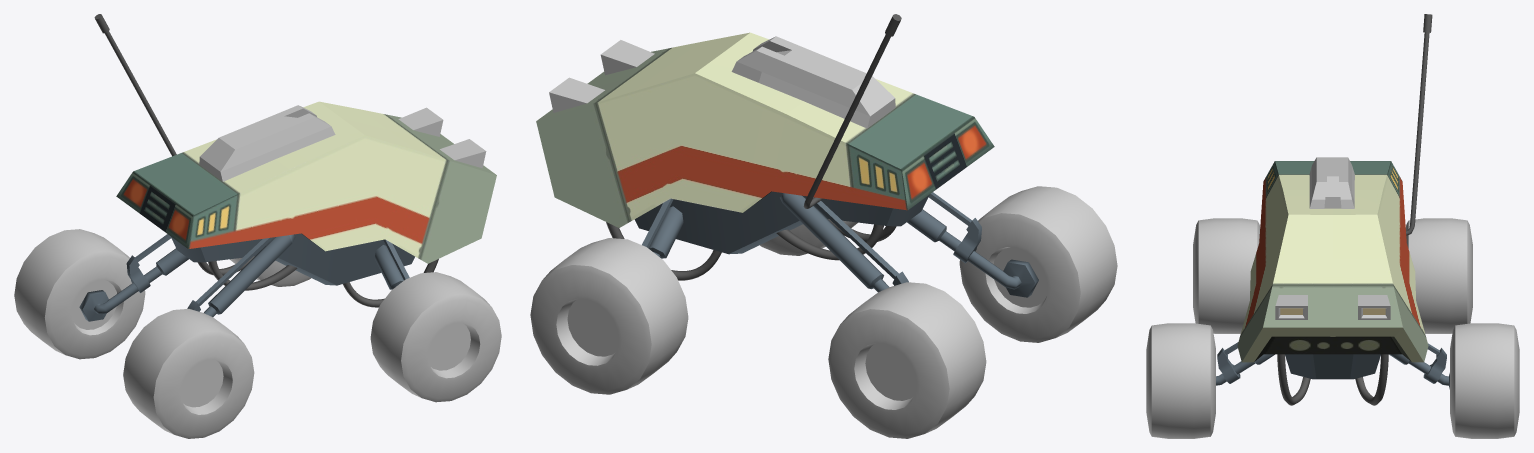
The model's file is rover.fbx.
3 renders of one model, left to right at view 1: azimuth 30°, elevation 25°; view 2: azimuth 150°, elevation 25°; view 3: azimuth 270°, elevation 25°, orthographic. The views are drawn at different scales.
Parts seen in each view (by area): view 1: body1, DFW1, DFW3, DFW2, outerarm, undercairage, spring_3, srping_2, antenna, right_light1, right_light, bracket_3 (+5 smaller); view 2: body1, DFW, DFW2, DFW3, outerarm, undercairage, srping_2, spring_3, antenna, right_light, right_light1, bracket_3 (+5 smaller); view 3: body1, DFW, DFW1, DFW3, DFW2, outerarm, undercairage, antenna, right_light1, right_light, wire_3, wire_4 (+4 smaller).
Boxes of the visible parts, x1,y1,x2,y2 form: body1: (116,101,496,263); DFW1: (370,272,501,402); DFW3: (123,309,254,438); DFW2: (14,229,145,359); outerarm: (199,105,335,181); undercairage: (171,233,414,285); spring_3: (204,234,295,316); srping_2: (79,248,188,321); antenna: (94,14,176,156); right_light1: (440,139,486,168); right_light: (398,107,443,136); bracket_3: (187,237,273,311); body1: (536,32,994,227); DFW: (530,238,688,394); DFW2: (828,282,986,438); DFW3: (959,186,1117,342); outerarm: (731,36,895,128); undercairage: (634,191,929,254); srping_2: (780,193,889,292); spring_3: (907,209,1038,297); antenna: (803,14,901,208); right_light: (549,77,604,112); right_light1: (600,40,654,75); bracket_3: (929,192,981,263); body1: (1237,161,1428,362); DFW: (1450,323,1519,438); DFW1: (1146,323,1215,438); DFW3: (1193,218,1260,333); DFW2: (1405,218,1472,333); outerarm: (1309,157,1354,208); undercairage: (1285,354,1380,379); antenna: (1406,14,1432,235); right_light1: (1275,295,1307,319); right_light: (1358,295,1390,319); wire_3: (1277,354,1310,405); wire_4: (1355,354,1388,405).
Size of the model in its own units: 113 by 95.4 by 100.
